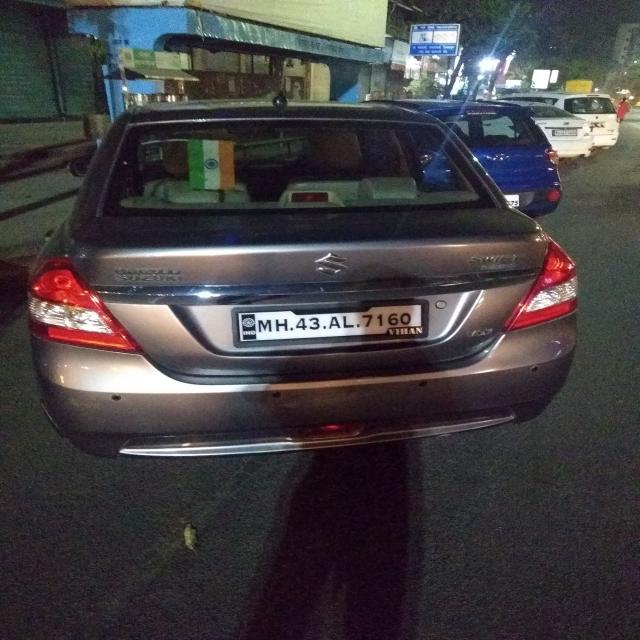Number-Plate: (235, 310, 426, 335)
